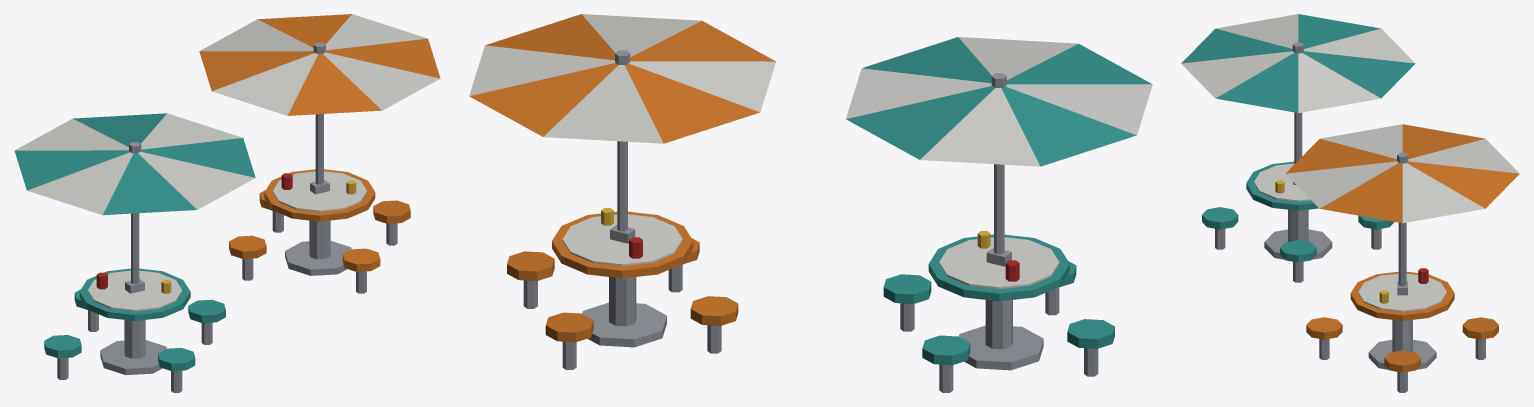
File: Decor_FoodTruck_Umbrellas.fbx
3 renders of one model, left to right at view 1: azimuth 30°, elevation 25°; view 2: azimuth 150°, elevation 25°; view 3: azimuth 270°, elevation 25°, orthographic. The views are drawn at different scales.
Visible parts, largest first — view 1: Umbrellas_Body; view 2: Umbrellas_Body; view 3: Umbrellas_Body.
Part boxes in pixels (bbox=[...]): Umbrellas_Body: bbox=[14, 14, 440, 392]; Umbrellas_Body: bbox=[469, 14, 1152, 392]; Umbrellas_Body: bbox=[1181, 14, 1519, 392].
Bounding box in the file's own units: 19 × 8.6 × 13.
